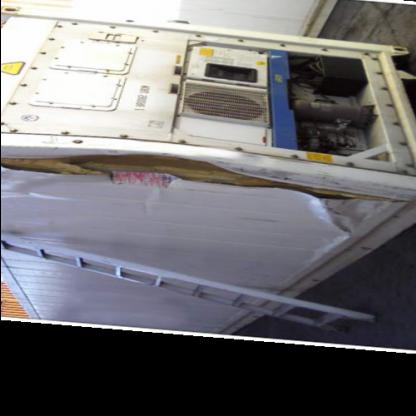Damage: (2, 147, 416, 215)
